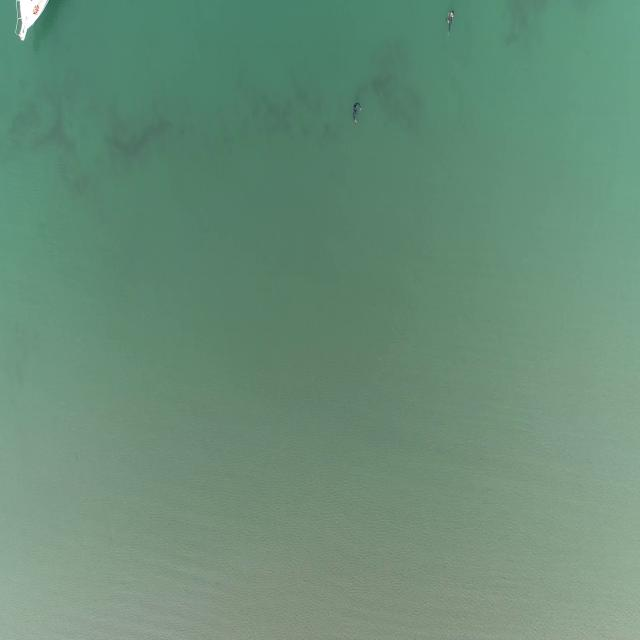person: (350, 101, 364, 124), (445, 10, 457, 33)
